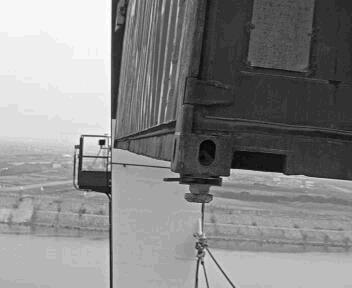twist_lock_1: (169, 168, 229, 209)
